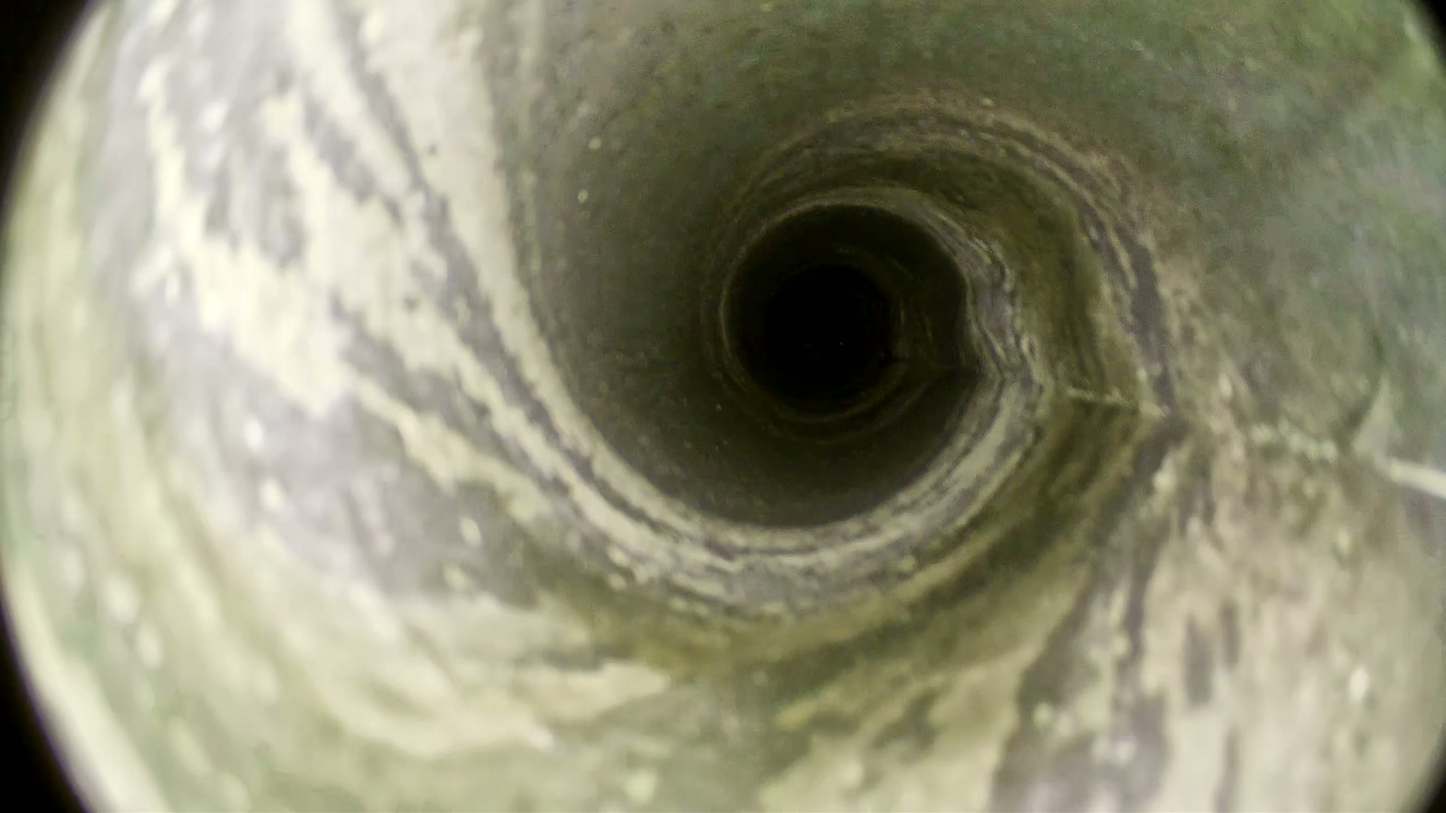hole: (769, 285, 861, 374)
